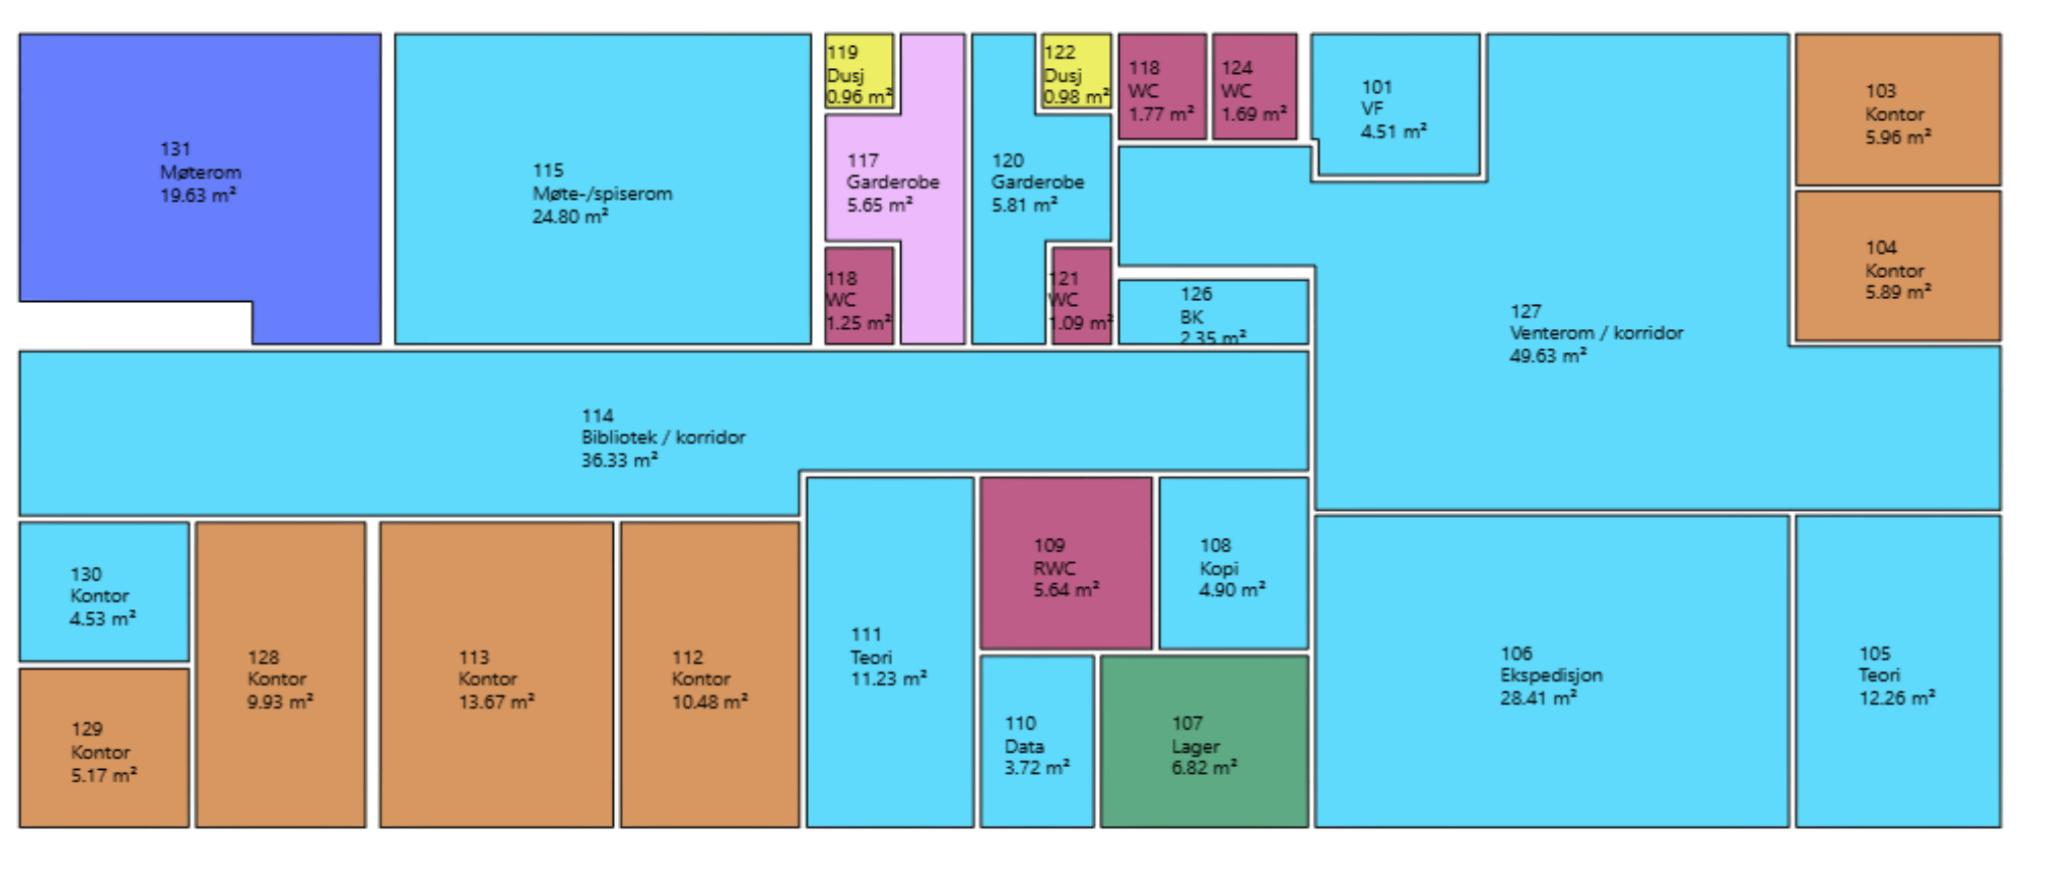room: (1312, 32, 2003, 509), (14, 349, 1311, 518), (1312, 511, 1792, 833), (386, 28, 817, 348), (14, 24, 387, 347), (372, 518, 618, 832), (1793, 511, 2004, 830), (802, 473, 979, 830), (617, 518, 804, 832), (191, 519, 373, 832), (817, 28, 967, 348), (968, 29, 1116, 349), (1098, 651, 1312, 832), (1792, 30, 2004, 188), (1792, 187, 2004, 344), (978, 473, 1156, 652), (14, 663, 192, 832), (1156, 473, 1312, 652), (1304, 26, 1484, 179), (14, 519, 192, 664), (976, 651, 1098, 830), (1116, 272, 1312, 347), (1116, 30, 1208, 141), (1210, 29, 1299, 141), (820, 244, 897, 348), (1049, 245, 1115, 348), (821, 29, 897, 111), (1038, 30, 1115, 111)
